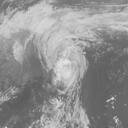cyclone: (40, 36, 91, 90)
